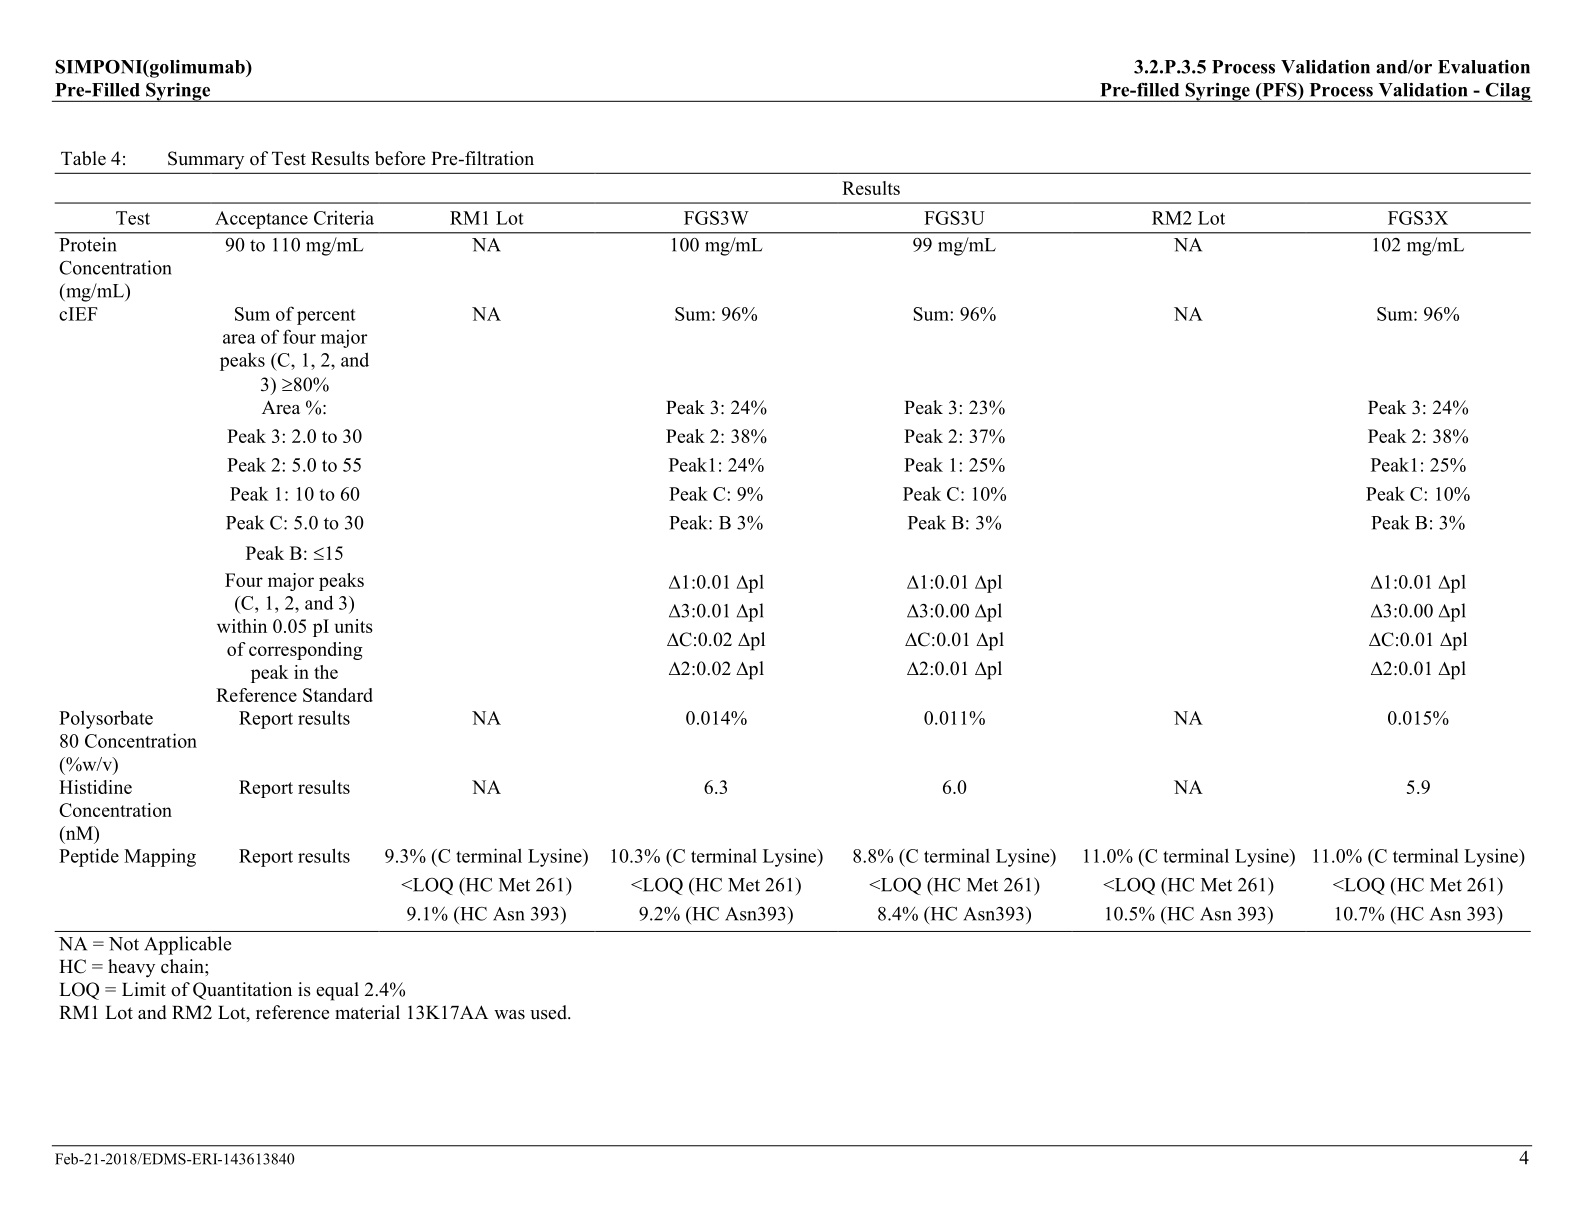partial_lined_merged_cells: (51, 168, 1533, 933)
